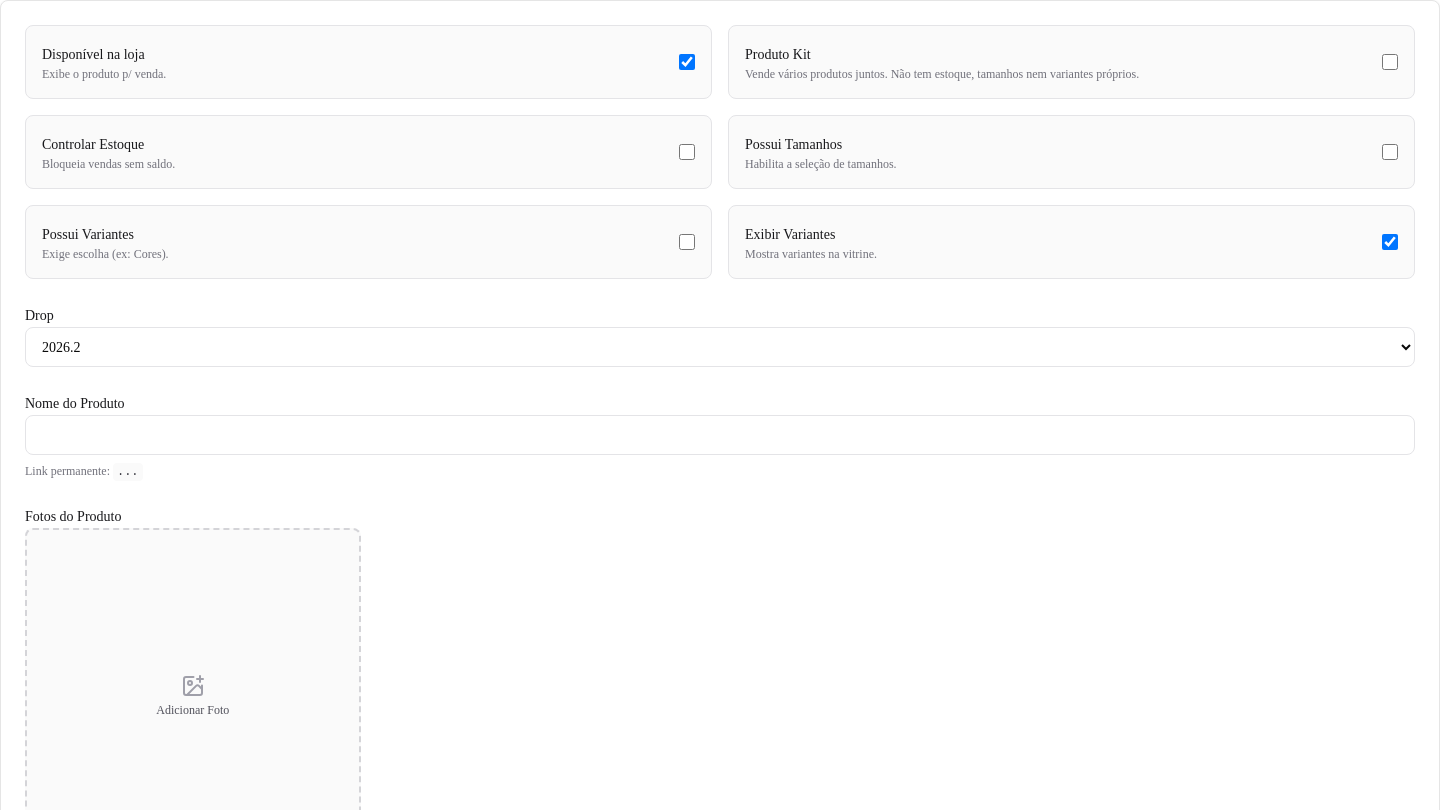
it: ProductForm bundle controls › states that the customer chooses variant and size of each component
Click the checkbox labelled "Produto Kit" at (1390, 62), box [1382,54,1398,70]
(page scrolled)
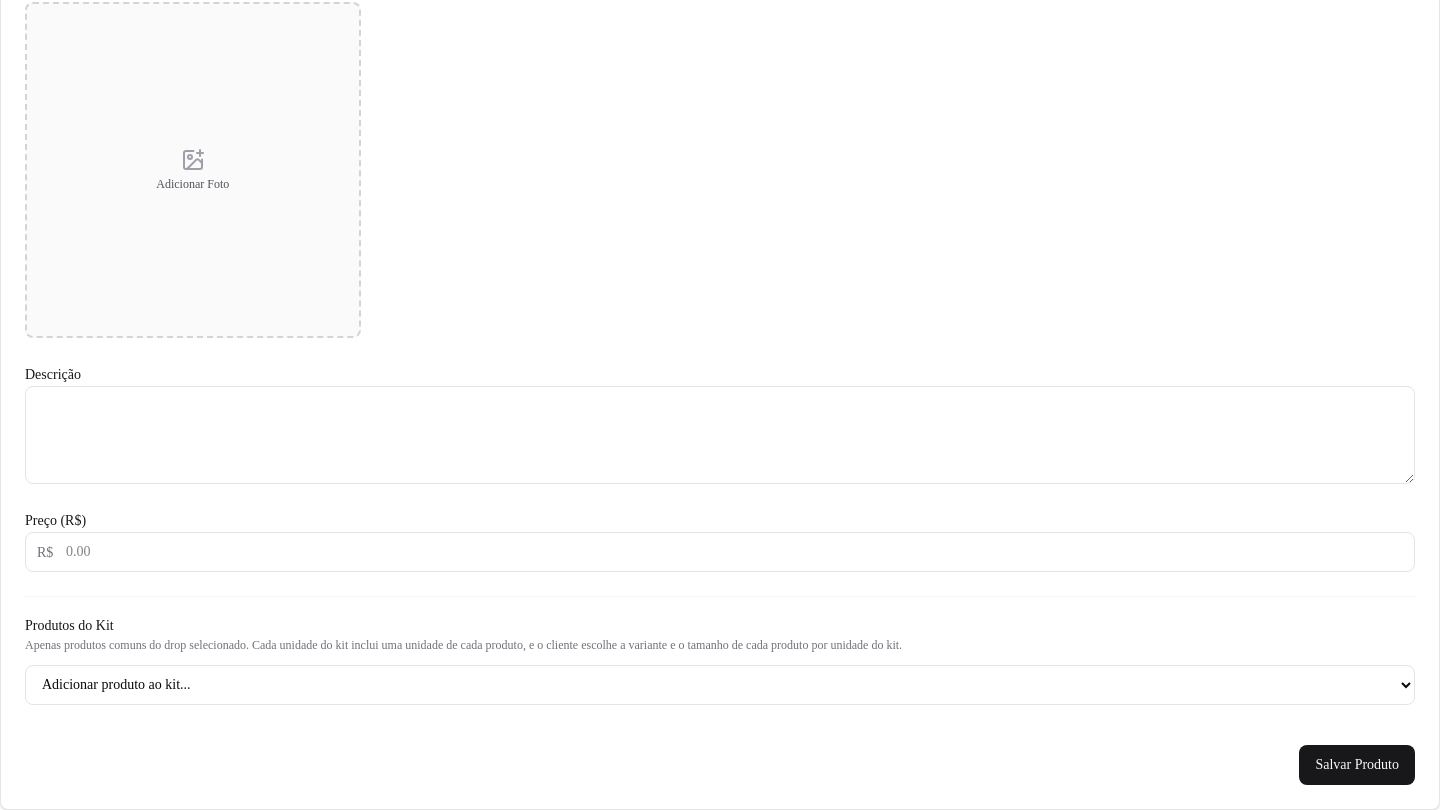
Expected: the text "escolhe a variante e o tamanho de cada produto" is shown, [25,638,902,652]
